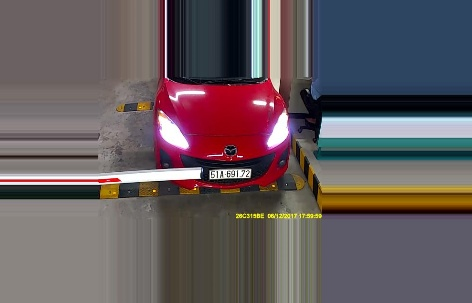plate: (211, 165, 251, 180)
